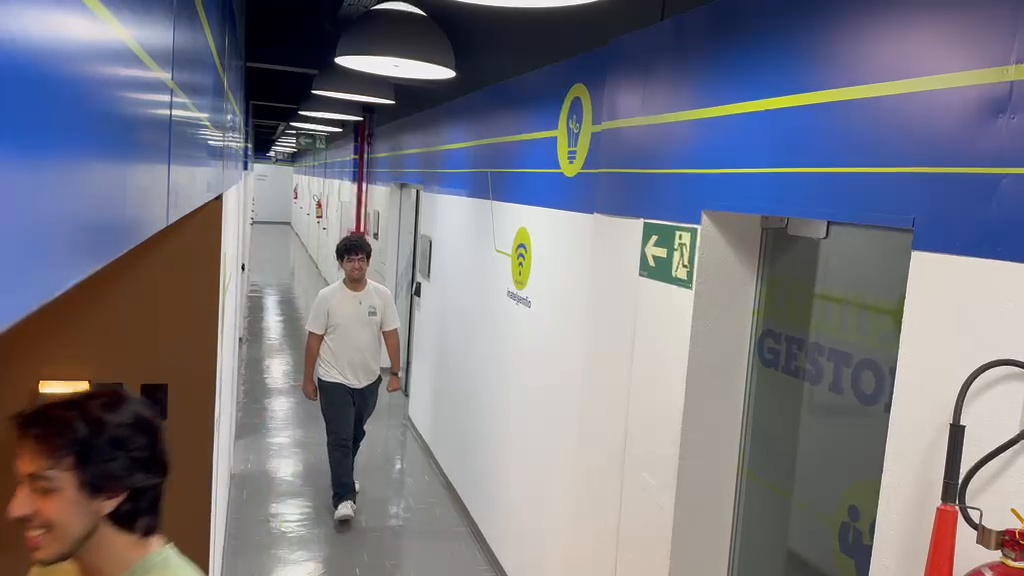person: (4, 398, 205, 575), (301, 233, 401, 526)
